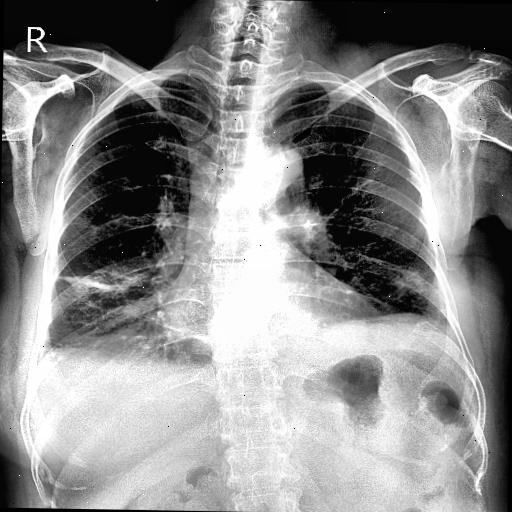0- Aortic enlargement: (252, 146, 308, 200), (246, 144, 304, 192)
10- Pleural effusion: (34, 300, 98, 369), (31, 335, 73, 387)
11- Pleural thickening: (34, 300, 98, 369), (31, 335, 73, 387)
13- Pulmonary fibrosis: (54, 268, 152, 292), (54, 272, 143, 292), (60, 272, 118, 292)
3- Cardiomegaly: (156, 284, 384, 338)
7- Lung Opacity: (74, 296, 192, 362), (355, 146, 425, 244)
8- Nodule-Mass: (278, 207, 326, 248)
